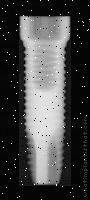Neoss: (13, 16, 71, 187)
